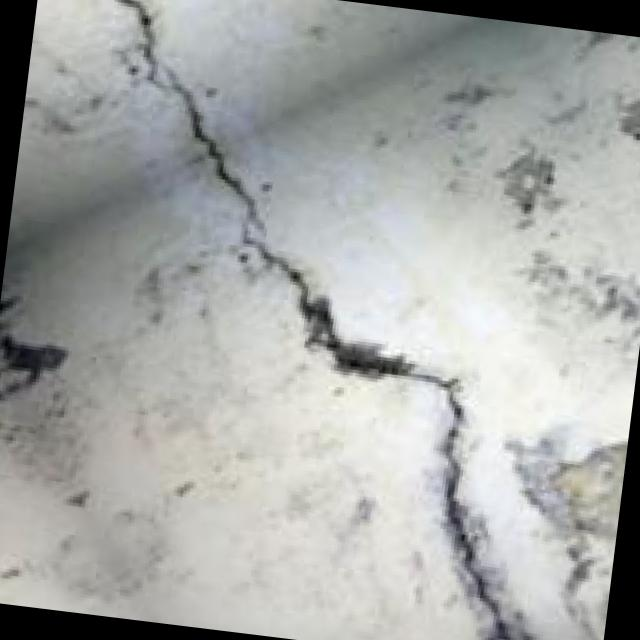crack: (43, 0, 619, 640)
